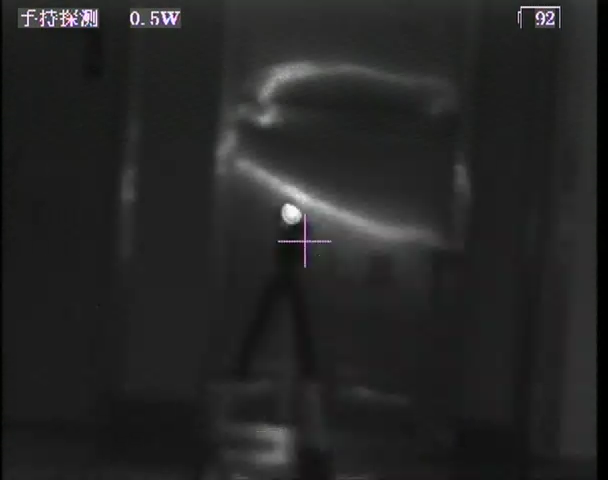my: (278, 201, 304, 226)
